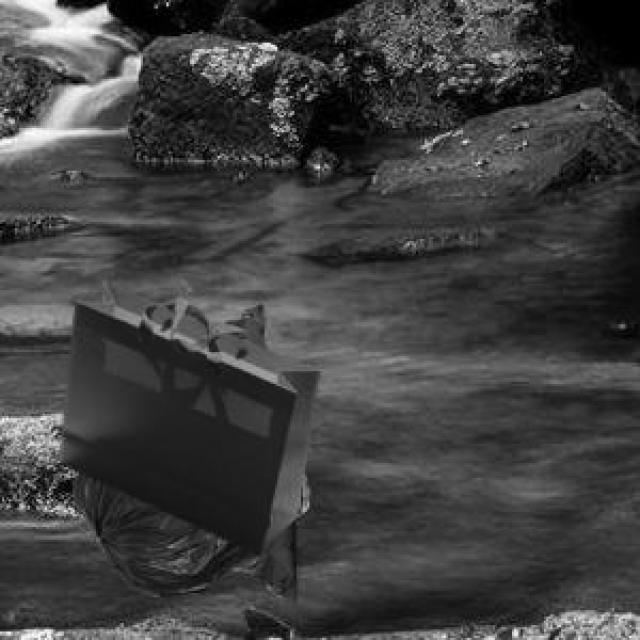miscellaneous trash: (68, 469, 305, 593), (205, 303, 292, 597)
paper: (56, 277, 316, 550)
